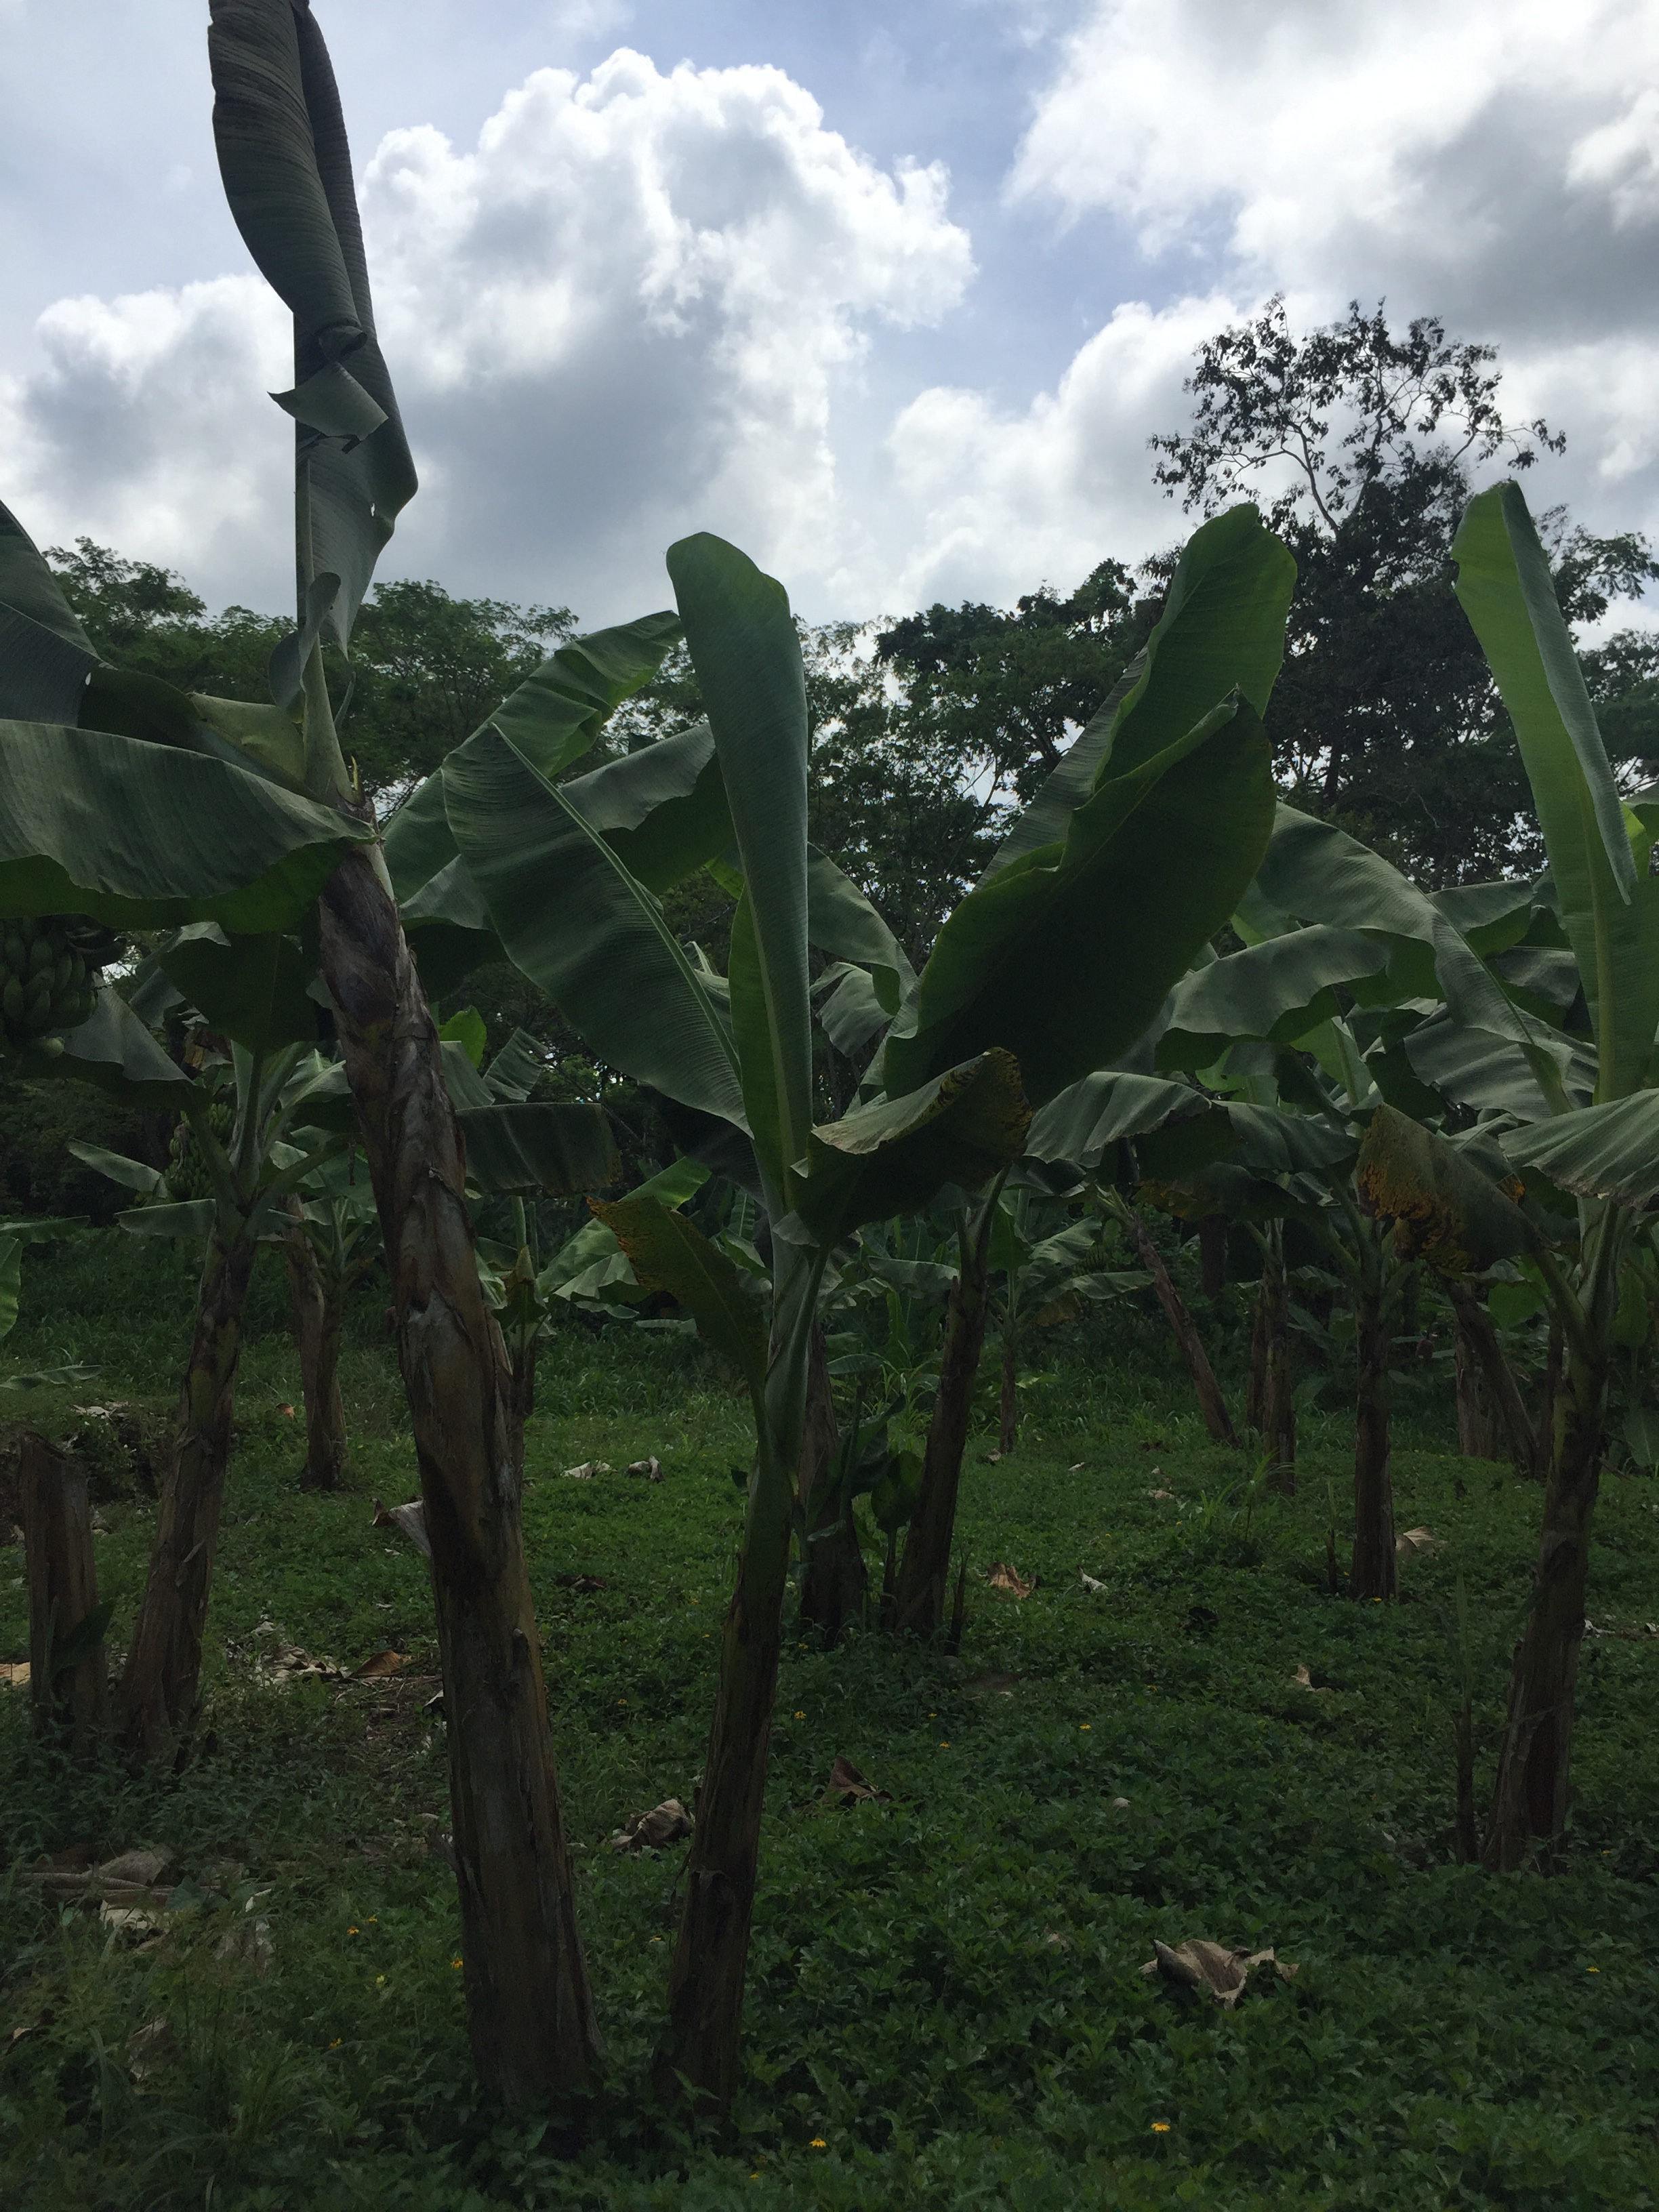candleleafs: (666, 531, 812, 1202)
